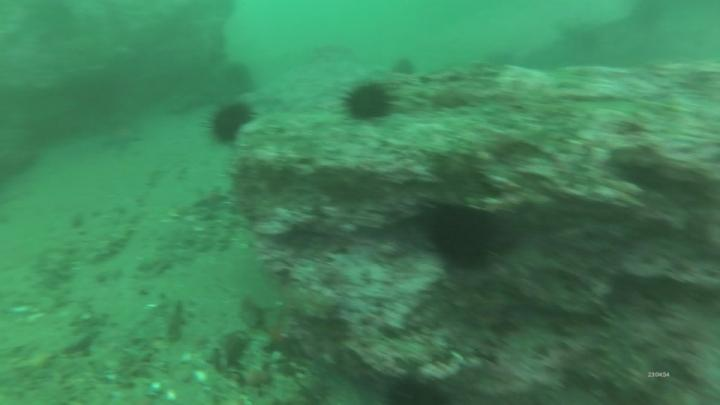echinus: (432, 206, 495, 269), (348, 86, 387, 122), (213, 106, 249, 140)
holothurian: (239, 336, 270, 382)
